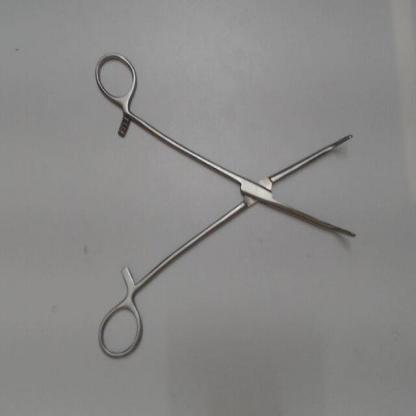Lahey Forceps: (90, 48, 366, 368)
